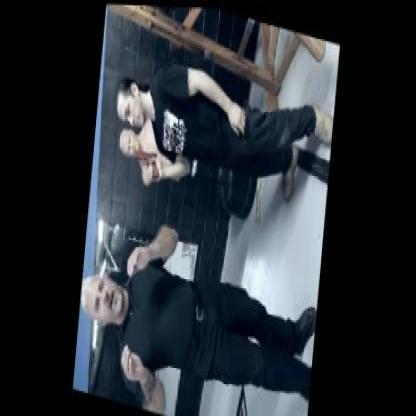pistol: (132, 146, 160, 178)
